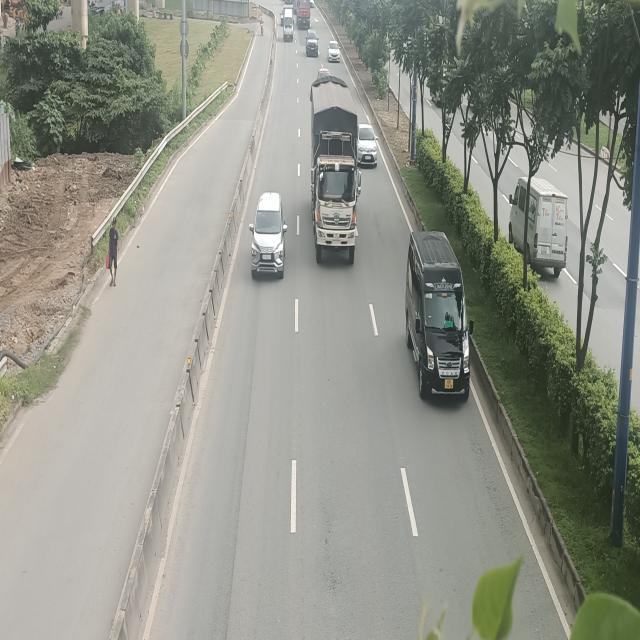car: (249, 191, 287, 281), (358, 123, 379, 167), (305, 28, 319, 58), (328, 40, 342, 61)
truck: (310, 74, 362, 264)
van: (404, 228, 474, 403)
